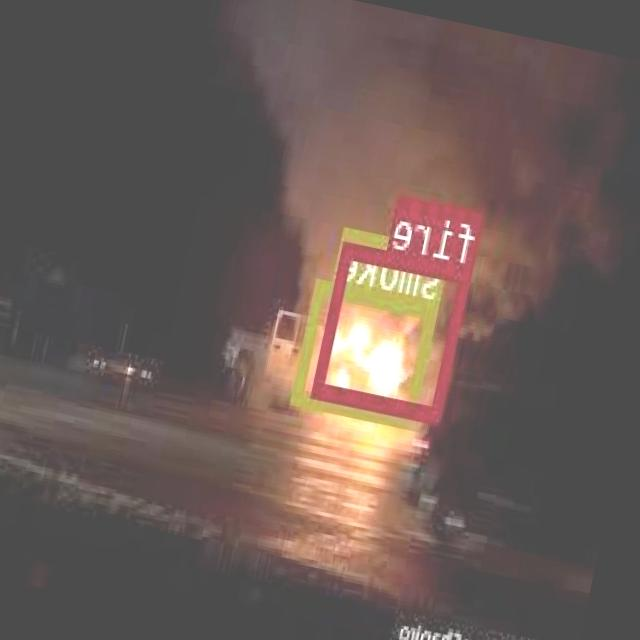fire: (314, 240, 475, 420)
smoke: (294, 278, 439, 428)
